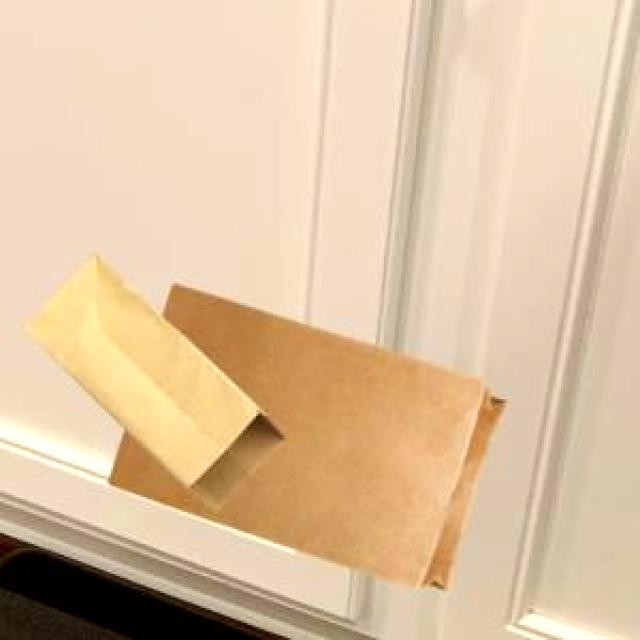Paper_Bag: (105, 280, 502, 588), (22, 253, 280, 507)
